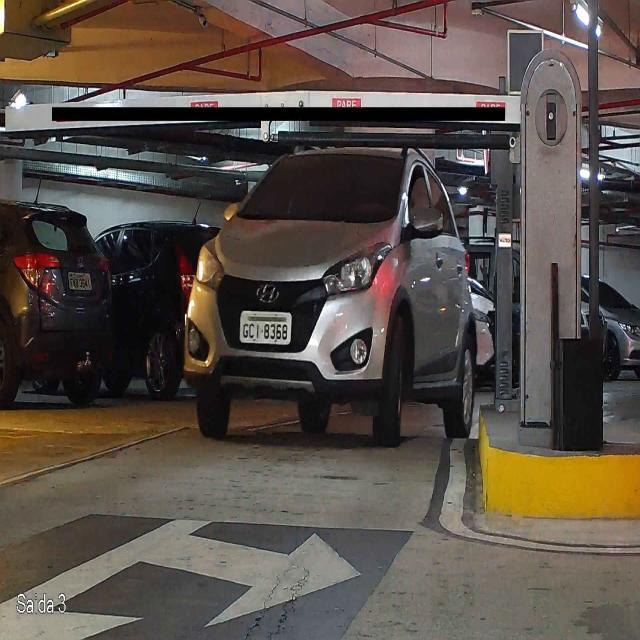old_plate: (238, 309, 294, 347)
